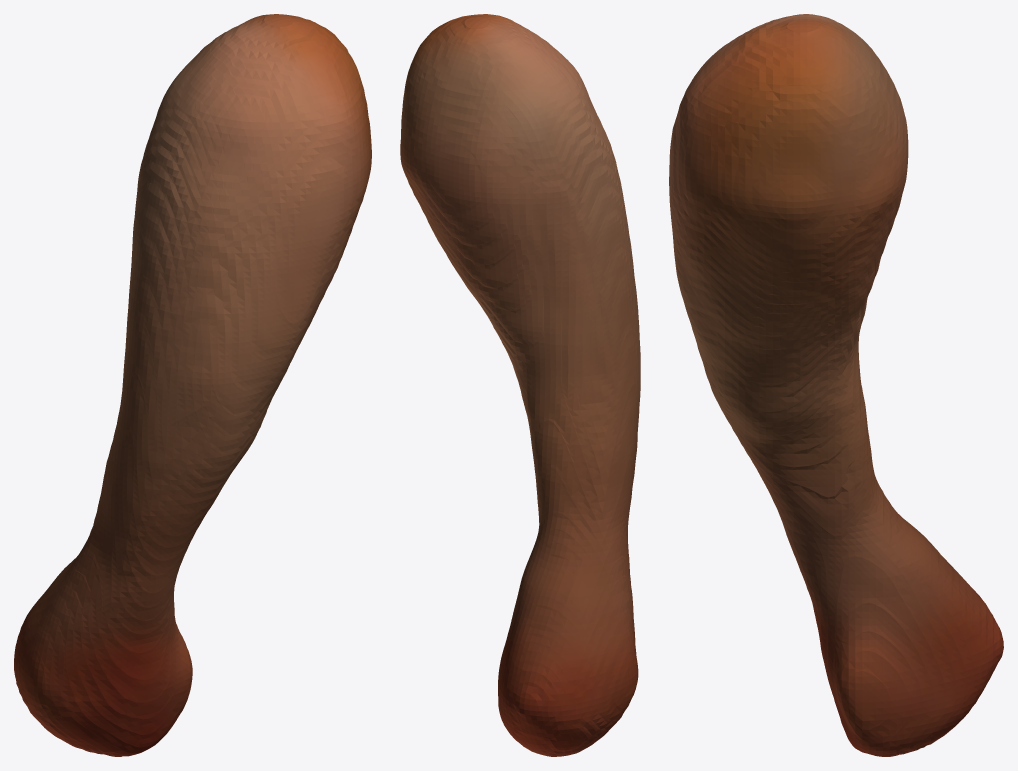
The picture shows the model from 3 angles, left to right: view 1: azimuth 30°, elevation 25°; view 2: azimuth 150°, elevation 25°; view 3: azimuth 270°, elevation 25°; orthographic projection. The views are drawn at different scales.
Parts seen in each view (by area): view 1: tmpg983dw2q.ply; view 2: tmpg983dw2q.ply; view 3: tmpg983dw2q.ply.
Part boxes in pixels (left/top/right/bottom): tmpg983dw2q.ply: left=14, top=14, right=371, bottom=756; tmpg983dw2q.ply: left=400, top=14, right=640, bottom=756; tmpg983dw2q.ply: left=669, top=14, right=1003, bottom=756.
Size of the model in its own units: 0.7951 by 1.98 by 0.7552.
